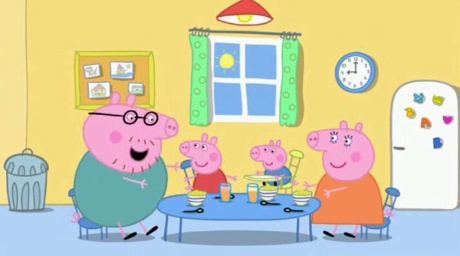Peppa: (178, 132, 238, 195)
